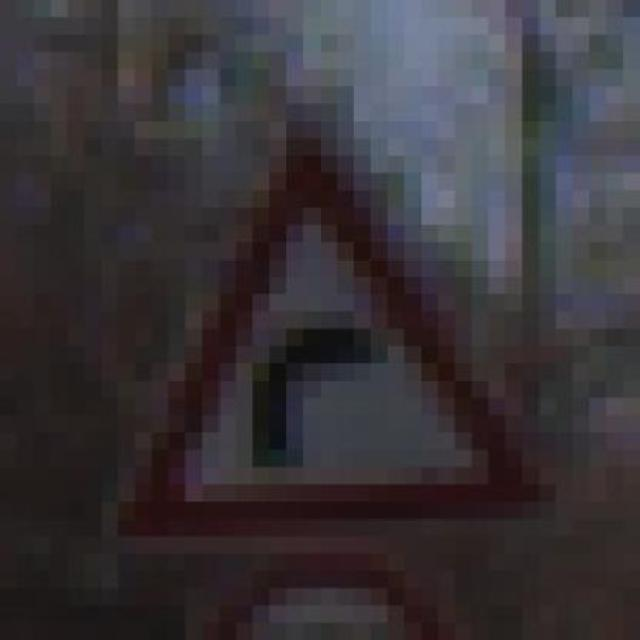Dangerous Rright Curve Ahead: (67, 104, 556, 536)
